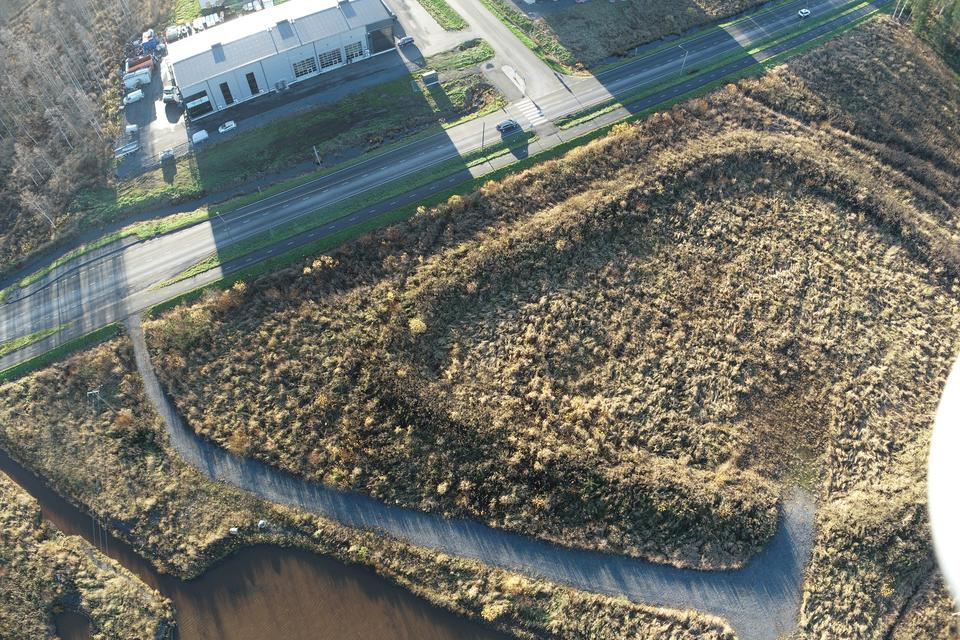intersection: (477, 55, 622, 192), (103, 201, 173, 370)
